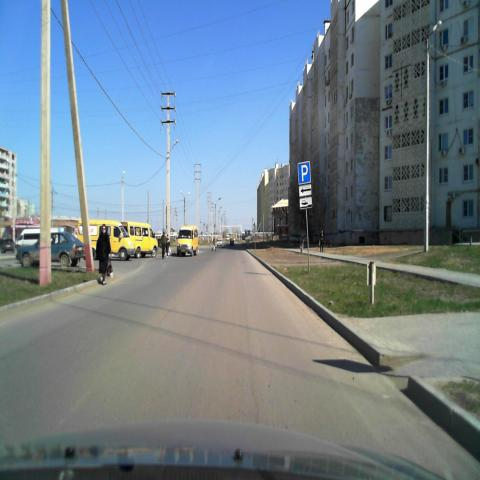8_3_2: (299, 186, 311, 196)
8_6_4: (300, 198, 312, 210)
